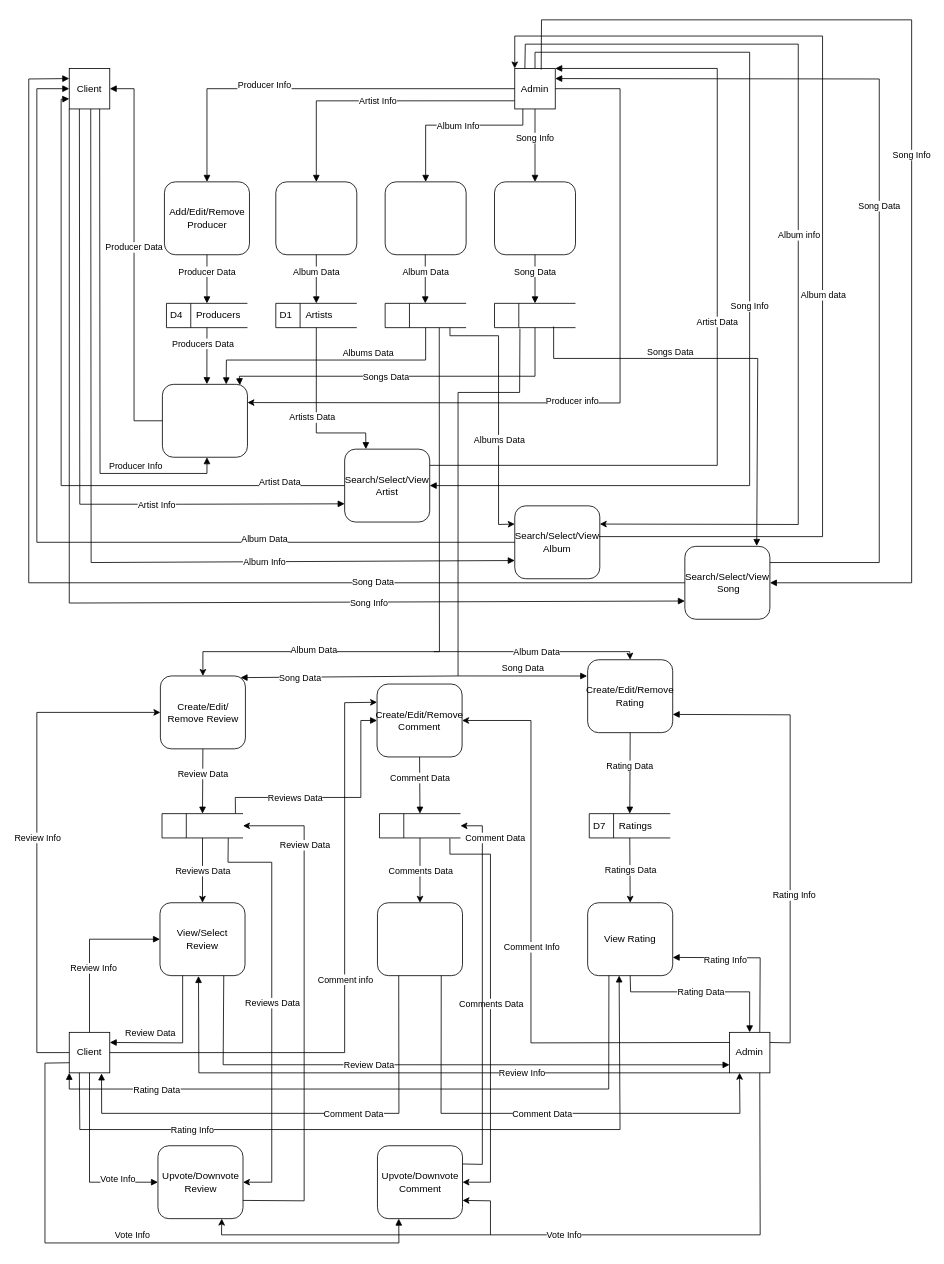
Some shapes in this 944 by 1264 pixel diagram are drawn without their labels. The shapes that lost their labels are listed below. From the top down, each one's centre as x and y in pixels, then its label:
At point 316,218: "Add/Edit/Remove Artist".
At point 425,218: "Add/Edit/Remove Album".
At point 535,218: "Add/Edit/Remove Song".
At point 425,315: "D3 Albums".
At point 535,315: "D2 Songs".
At point 204,420: "Search/Select/View Producer".
At point 202,825: "D5 Reviews".
At point 419,825: "D6 Comments".
At point 420,939: "View/Select Comment".
